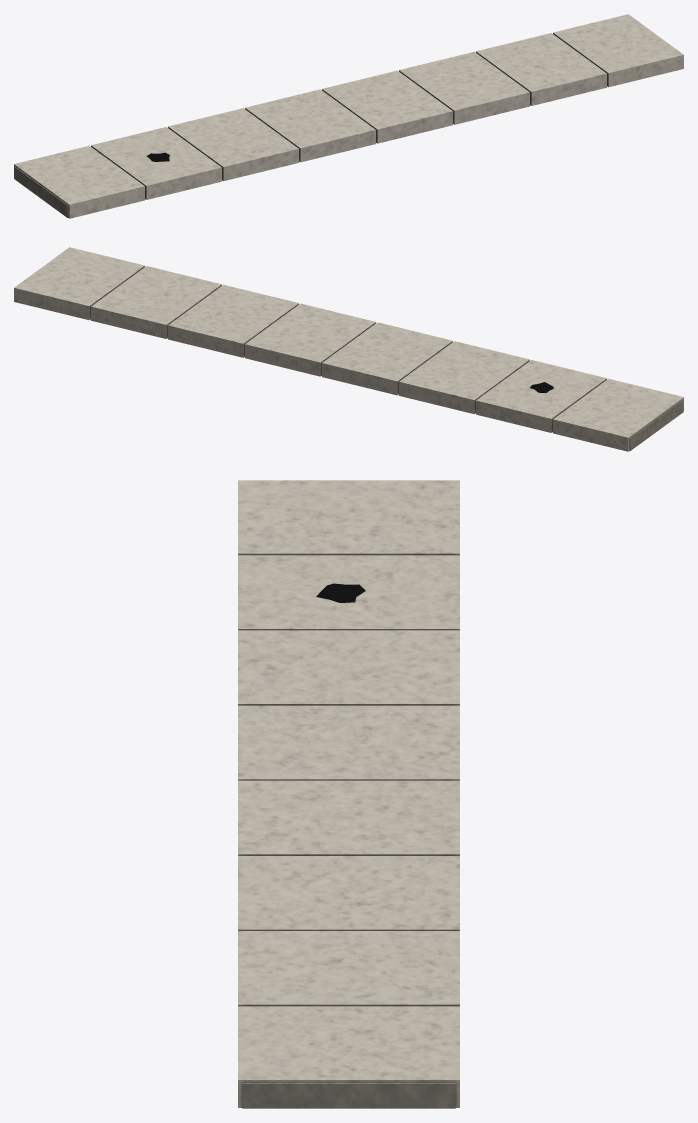
The model's file is sidewalk.fbx.
The picture shows the model from 3 angles, top to bottom: view 1: azimuth 30°, elevation 25°; view 2: azimuth 150°, elevation 25°; view 3: azimuth 270°, elevation 25°; orthographic projection. The views are drawn at different scales.
Parts seen in each view (by area): view 1: Body; view 2: Body; view 3: Body.
Part boxes in pixels (x1,y1,x2,y2): Body: (14, 14, 683, 218); Body: (14, 247, 683, 451); Body: (238, 480, 459, 1108).
Size of the model in its own units: 32 by 0.71 by 5.
Materials: 1 (1 with a texture image).
